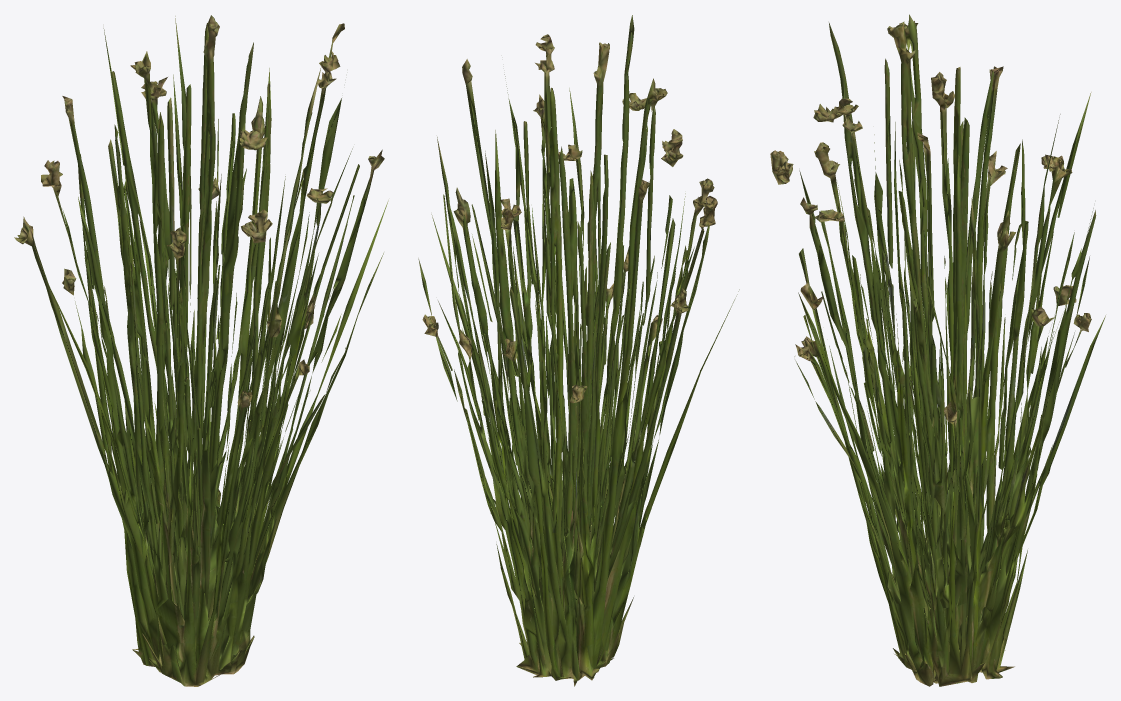
Rendered from juncos.glb.
3 views of the same model, side by side, from view 1: azimuth 30°, elevation 25°; view 2: azimuth 150°, elevation 25°; view 3: azimuth 270°, elevation 25° (orthographic). The views are drawn at different scales.
Parts seen in each view (by area): view 1: aligerado; view 2: aligerado; view 3: aligerado.
Part boxes in pixels (<box>): aligerado: <box>14,15,388,686</box>; aligerado: <box>418,15,739,686</box>; aligerado: <box>770,14,1105,686</box>.
Size of the model in its own units: 0.6427 by 1.2 by 0.5661.
1 material, 1 textured.
